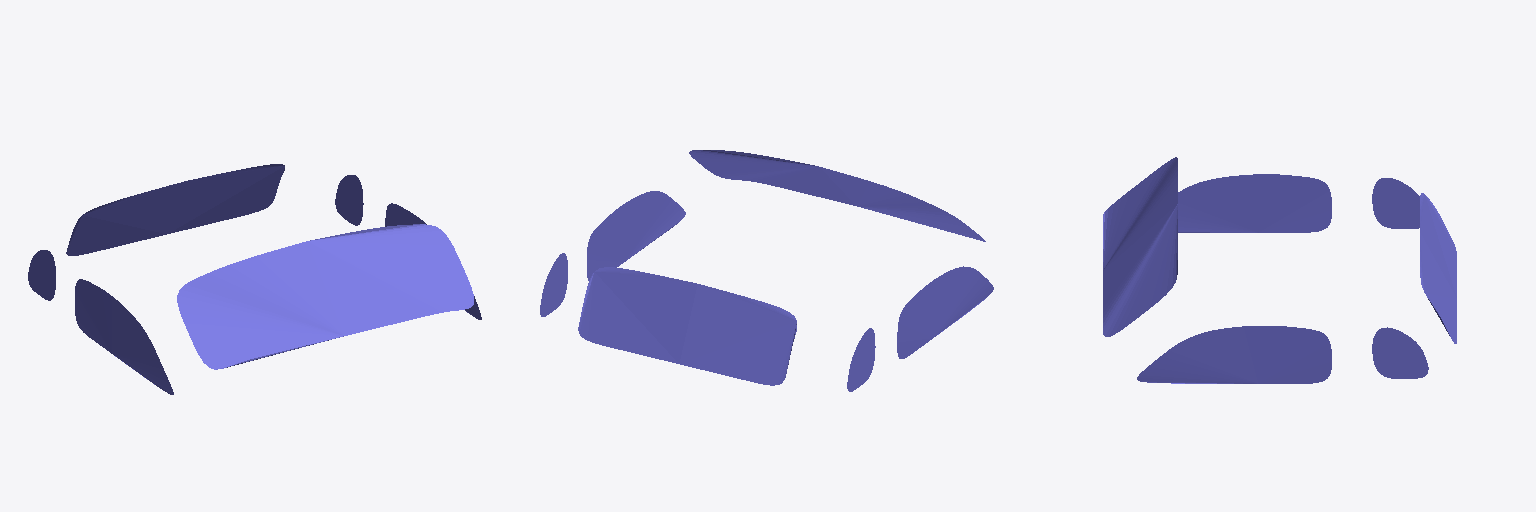
The model's file is glass.obj.
3 views of the same model, side by side, from view 1: azimuth 30°, elevation 25°; view 2: azimuth 150°, elevation 25°; view 3: azimuth 270°, elevation 25° (orthographic).
Parts seen in each view (by area): view 1: glass.002_Cube.004; view 2: glass.002_Cube.004; view 3: glass.002_Cube.004.
Part boxes in pixels (left/top/right/bottom): glass.002_Cube.004: left=28, top=164, right=481, bottom=394; glass.002_Cube.004: left=540, top=150, right=993, bottom=391; glass.002_Cube.004: left=1103, top=157, right=1456, bottom=383.
Bounding box in the file's own units: 5.12 × 1.65 × 5.06.